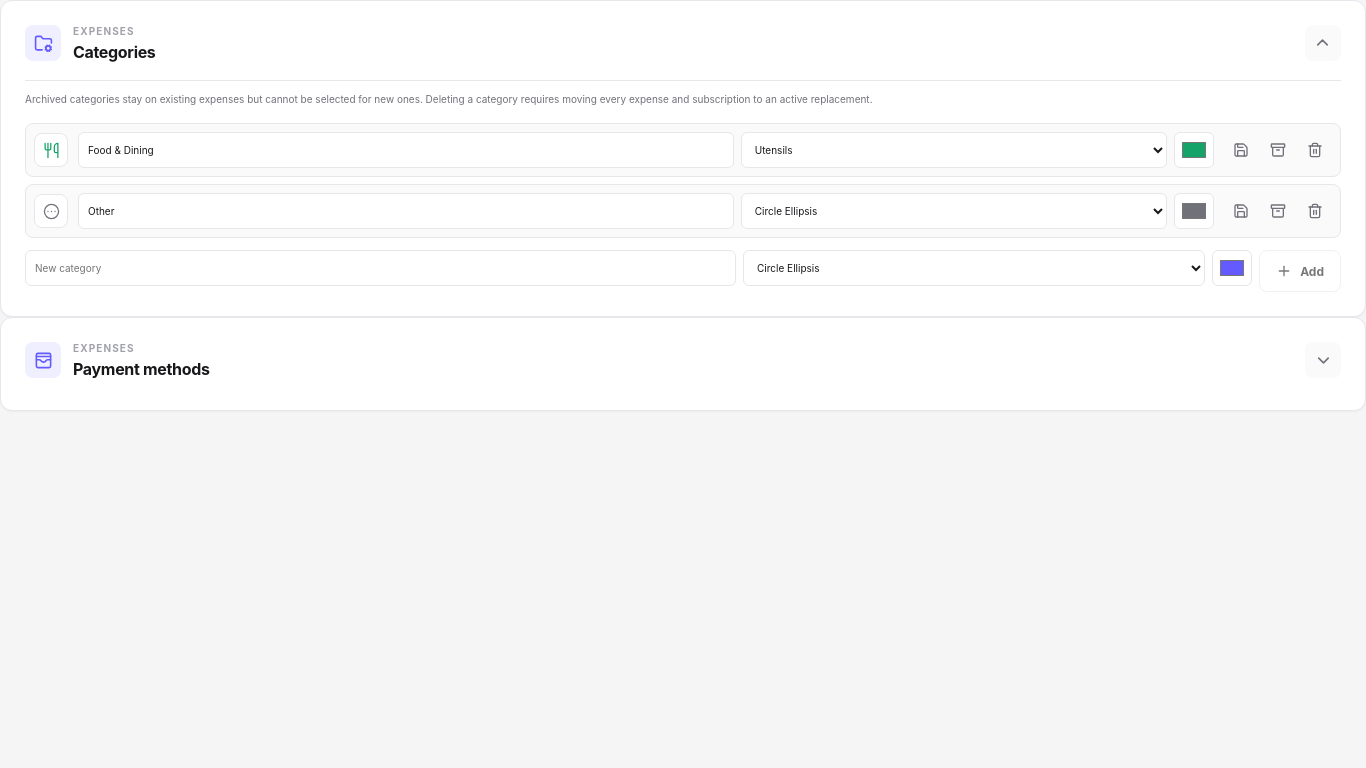
Test: MoneySettings category deletion › previews usage and requires a replacement before deleting
The image size is (1366, 768).
Click the button named "Delete Food & Dining" at (1315, 150), box [1298,133,1332,167]
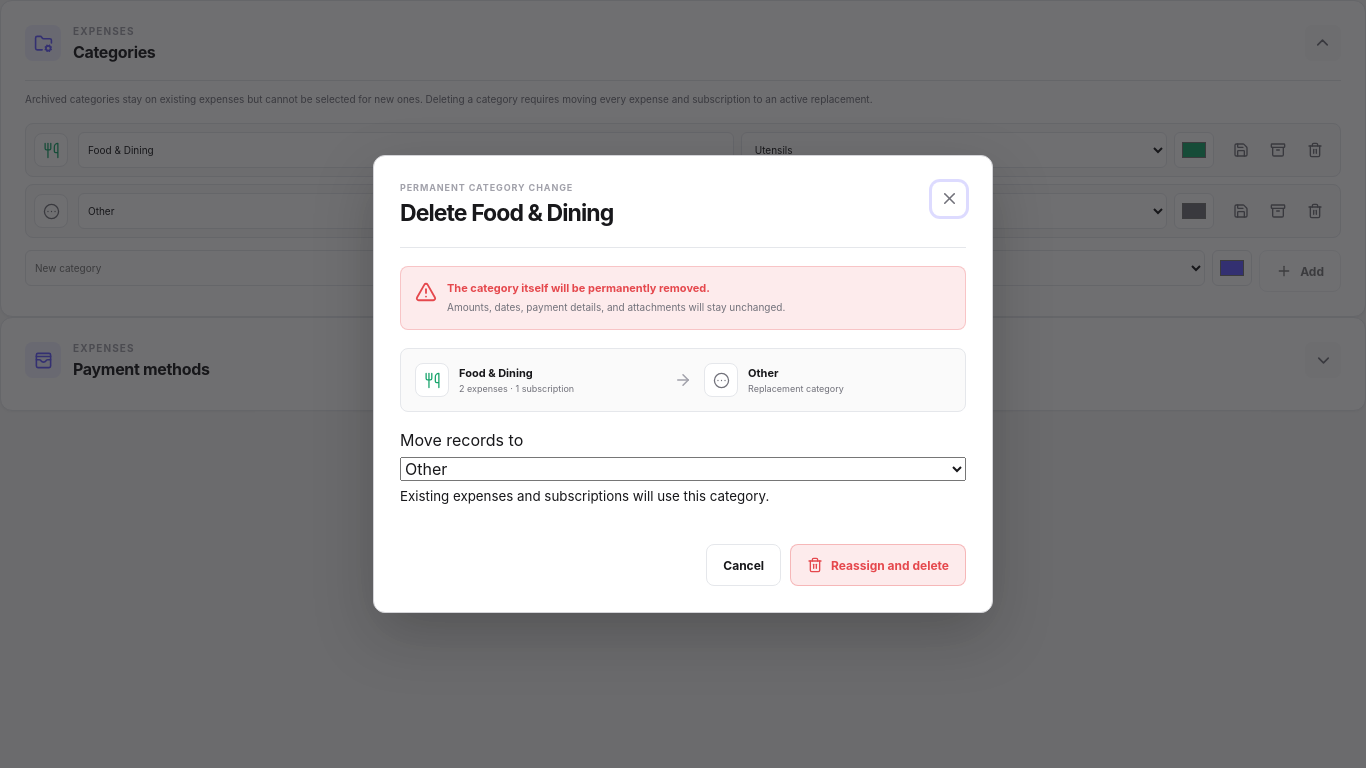
Check: the text "2 expenses · 1 subscription" is shown, box [459,383,574,394]
Check: the dropdown labelled "Move records to" shows "Other", box [400,457,966,481]
Click the button "Reassign and delete" at (878, 565), box [790,544,966,586]
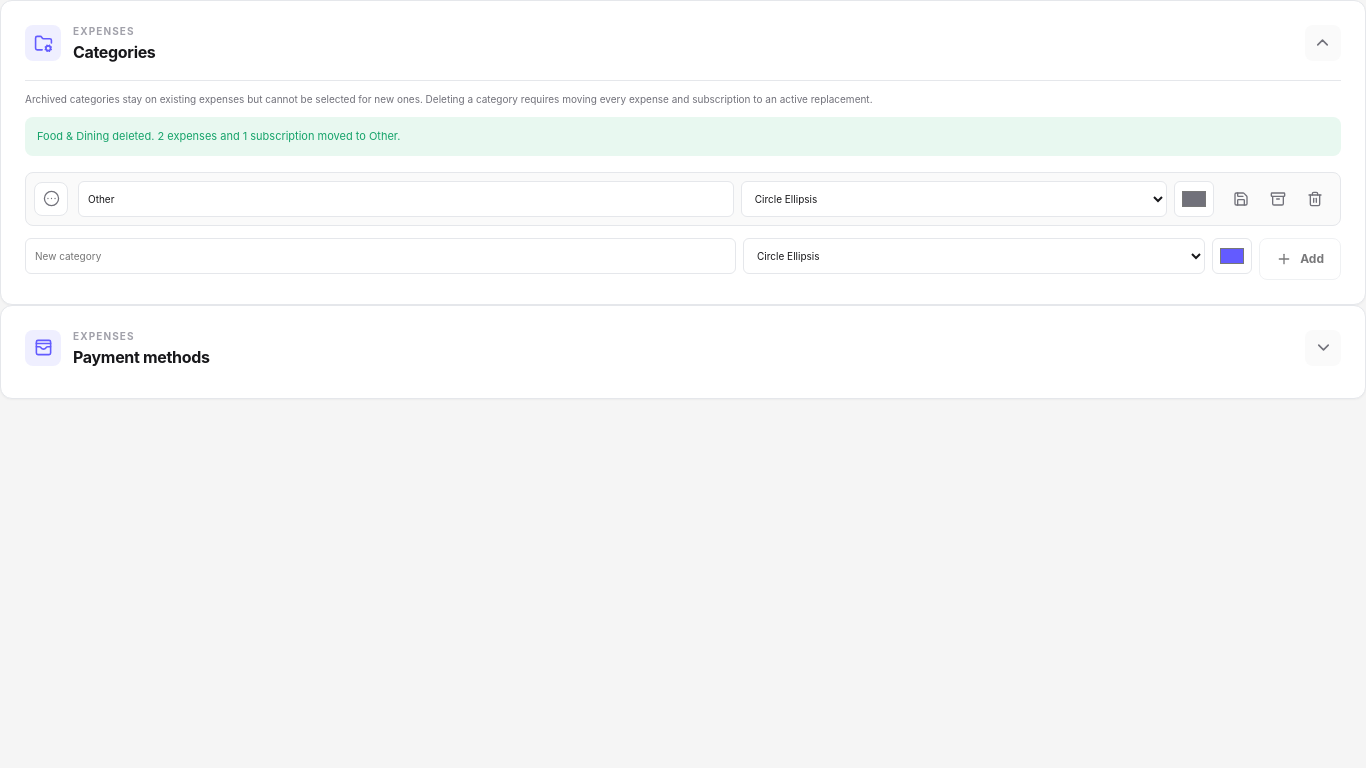
Check: the text "Food & Dining deleted. 2 expenses and 1 subscription moved to Other." is shown, box [25,117,1341,156]
Check: the heading "Delete Food & Dining" is gone
